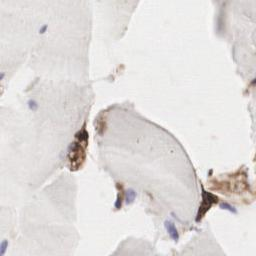nucleus: (164, 220, 179, 244), (125, 188, 138, 205), (221, 203, 236, 213), (1, 238, 9, 256), (39, 23, 49, 34), (29, 101, 39, 111), (113, 195, 118, 208), (1, 72, 5, 82)
positive_cell: (113, 179, 125, 213), (217, 197, 237, 213)
